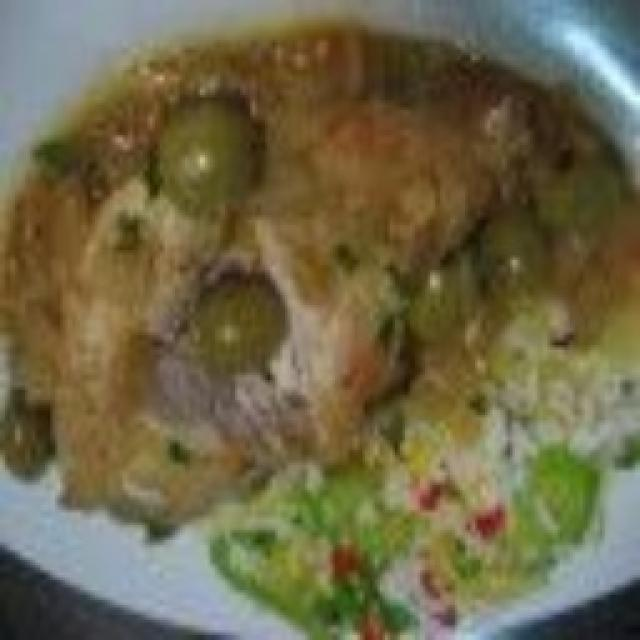Salade mechweya: (0, 34, 640, 640)
